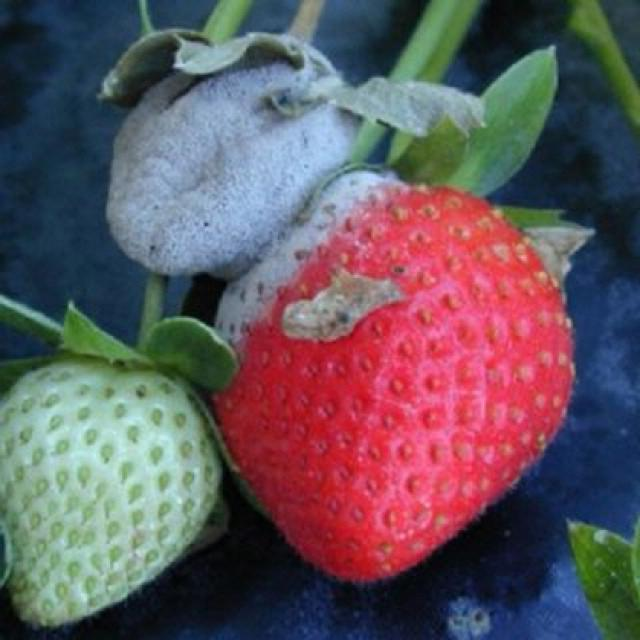Gray Mold: (90, 25, 487, 281), (212, 165, 442, 360)
